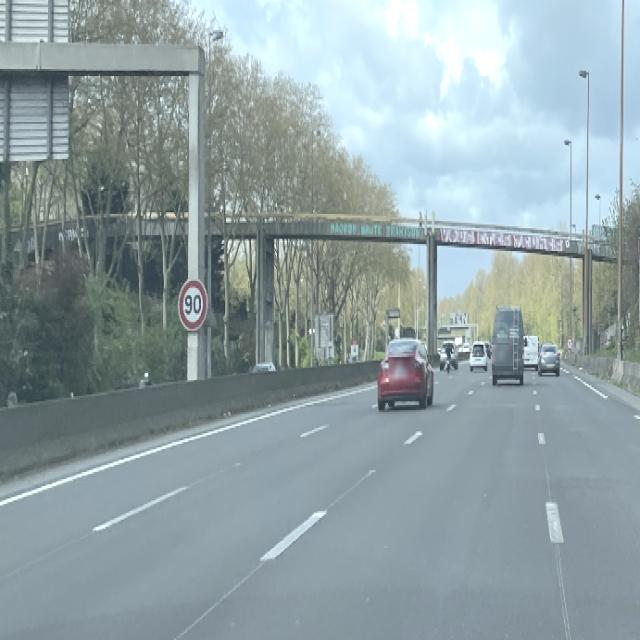speed_90: (177, 278, 208, 331)
